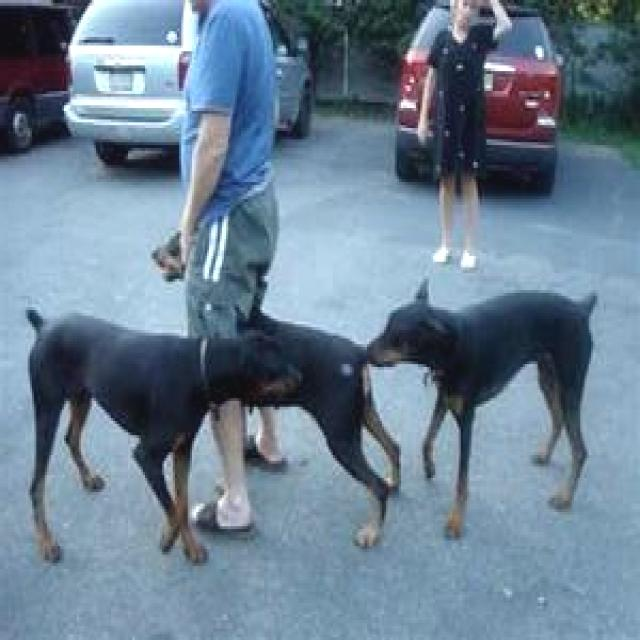KOPEK: (14, 310, 277, 576), (401, 272, 618, 542), (236, 296, 378, 614)
